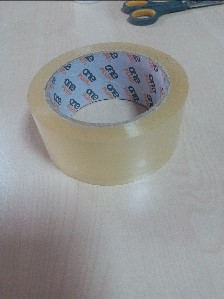band: (27, 39, 191, 193)
